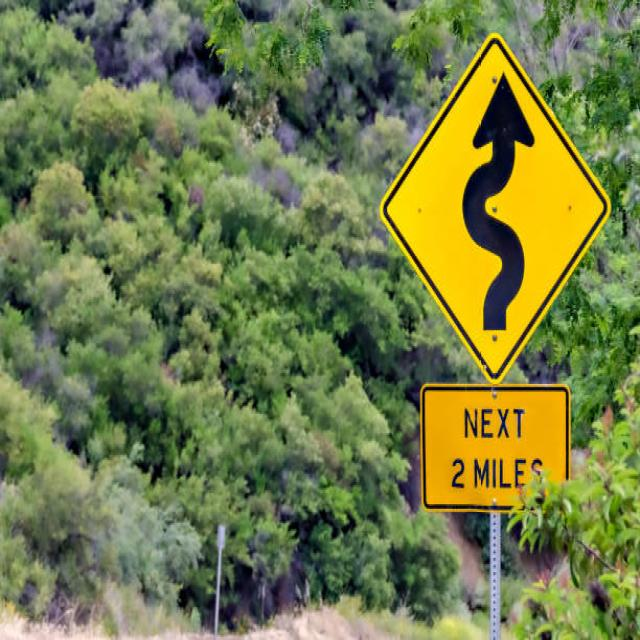left_sharp_curve: (377, 14, 612, 384)
